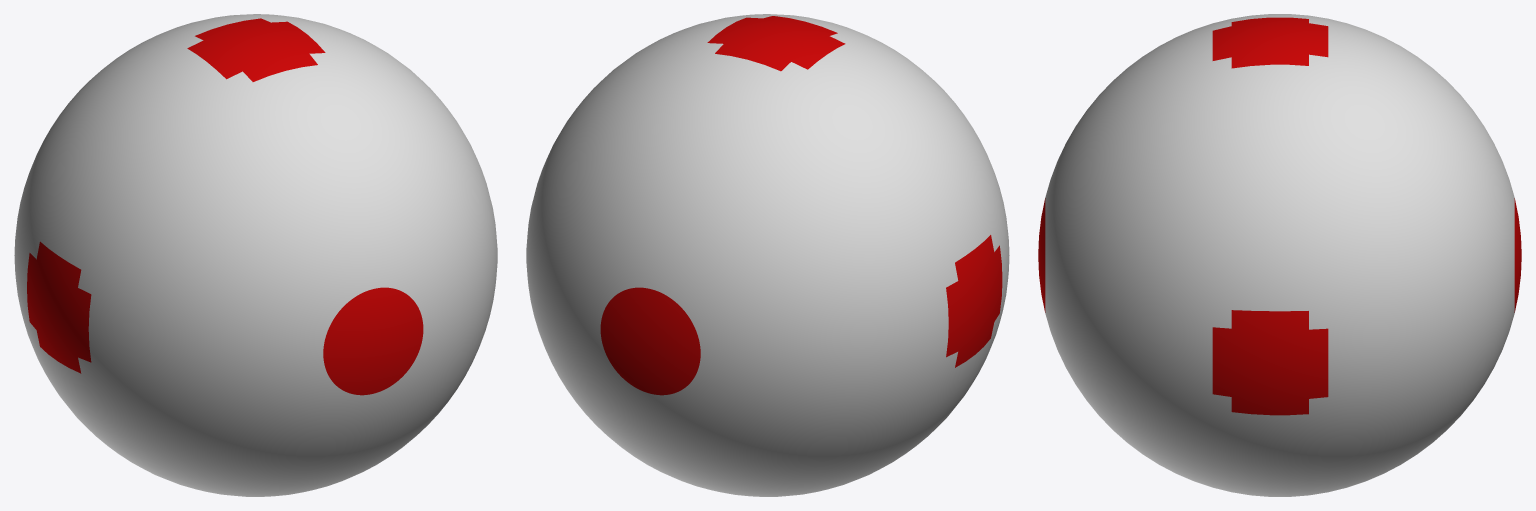
Rendered from Cue_Ball.dae.
The picture shows the model from 3 angles, left to right: view 1: azimuth 30°, elevation 25°; view 2: azimuth 150°, elevation 25°; view 3: azimuth 270°, elevation 25°; orthographic projection.
Bounding box in the file's own units: 0.0571 × 0.0572 × 0.0571.
